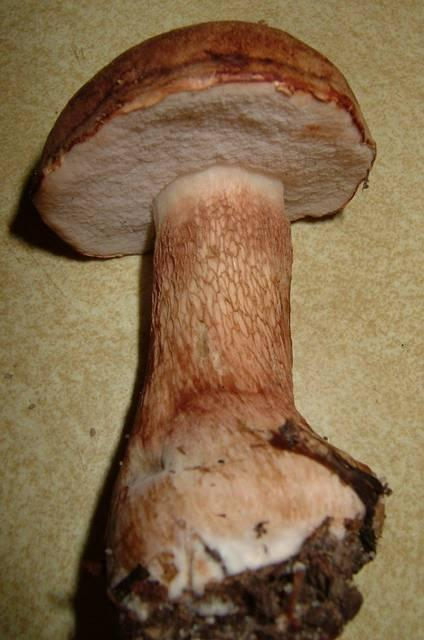poisonous_mushroom: (27, 18, 391, 639)
